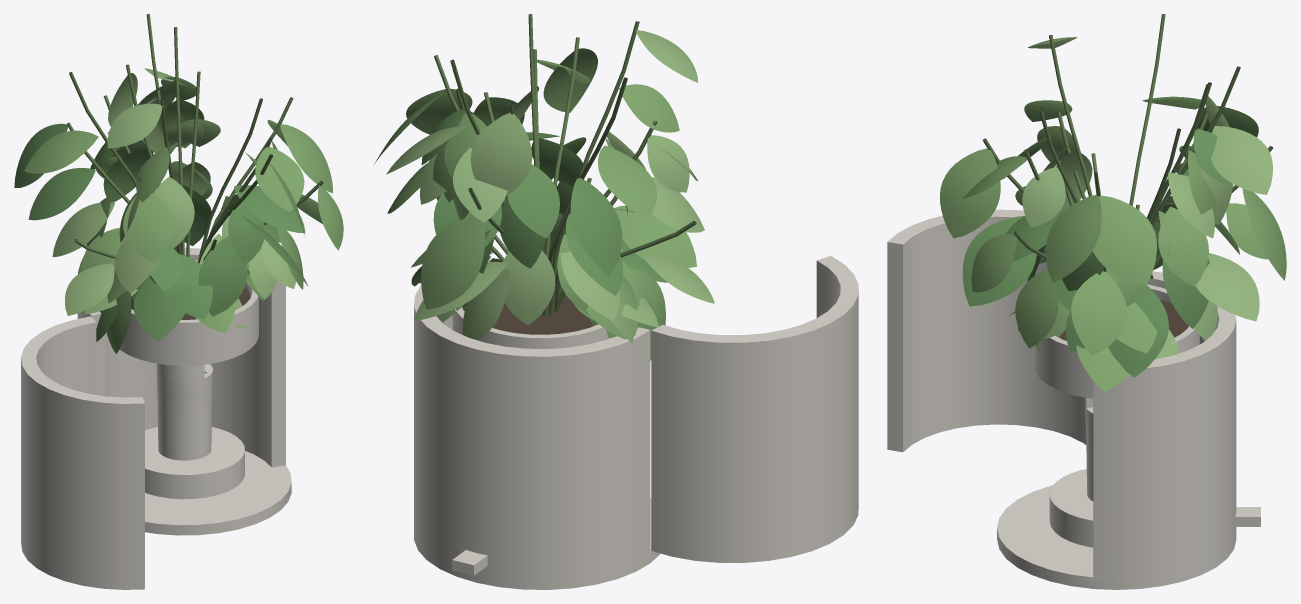
File: pot-ouvert.glb
3 renders of one model, left to right at view 1: azimuth 30°, elevation 25°; view 2: azimuth 150°, elevation 25°; view 3: azimuth 270°, elevation 25°, orthographic. The views are drawn at different scales.
Visible parts, largest first — view 1: Cylinder.001, Cylinder, Cylinder.002, feuille.042, feuille.059, feuille.048, feuille.064, feuille.028, feuille.037, feuille.041, feuille.055, feuille.031 (+32 smaller); view 2: Cylinder, Cylinder.001, feuille.027, feuille.022, feuille.030, feuille.021, feuille.037, feuille.051, feuille.023, Cylinder.002, terreau, feuille.061 (+26 smaller); view 3: Cylinder, Cylinder.001, Cylinder.002, feuille.077, feuille.061, feuille.002, feuille.076, feuille.019, feuille.025, feuille.015, feuille.060, feuille.071 (+26 smaller).
Boxes of the visible parts, x1,y1,x2,y2 form: Cylinder.001: [21, 316, 144, 589]; Cylinder: [77, 248, 291, 535]; Cylinder.002: [119, 260, 258, 499]; feuille.042: [123, 193, 173, 263]; feuille.059: [198, 236, 247, 316]; feuille.048: [133, 278, 192, 340]; feuille.064: [255, 147, 304, 211]; feuille.028: [28, 168, 95, 220]; feuille.037: [24, 130, 98, 173]; feuille.041: [65, 263, 114, 315]; feuille.055: [107, 103, 162, 148]; feuille.031: [52, 202, 114, 256]; Cylinder: [414, 285, 660, 589]; Cylinder.001: [651, 255, 858, 562]; feuille.027: [421, 216, 485, 309]; feuille.022: [470, 112, 532, 195]; feuille.030: [570, 176, 622, 275]; feuille.021: [502, 250, 555, 325]; feuille.037: [598, 145, 656, 219]; feuille.051: [614, 205, 696, 267]; feuille.023: [507, 164, 559, 238]; Cylinder.002: [452, 307, 608, 348]; terreau: [462, 288, 593, 334]; feuille.061: [543, 48, 597, 112]; Cylinder: [997, 271, 1236, 589]; Cylinder.001: [887, 209, 1086, 452]; Cylinder.002: [1033, 284, 1199, 547]; feuille.077: [1093, 195, 1156, 285]; feuille.061: [940, 148, 1000, 238]; feuille.002: [1071, 271, 1127, 355]; feuille.076: [1046, 195, 1101, 282]; feuille.019: [1211, 126, 1272, 194]; feuille.025: [1195, 253, 1259, 321]; feuille.015: [1158, 206, 1208, 286]; feuille.060: [962, 216, 1036, 306]; feuille.071: [1015, 269, 1058, 348].
Size of the model in its own units: 0.335 by 0.4047 by 0.3037.
